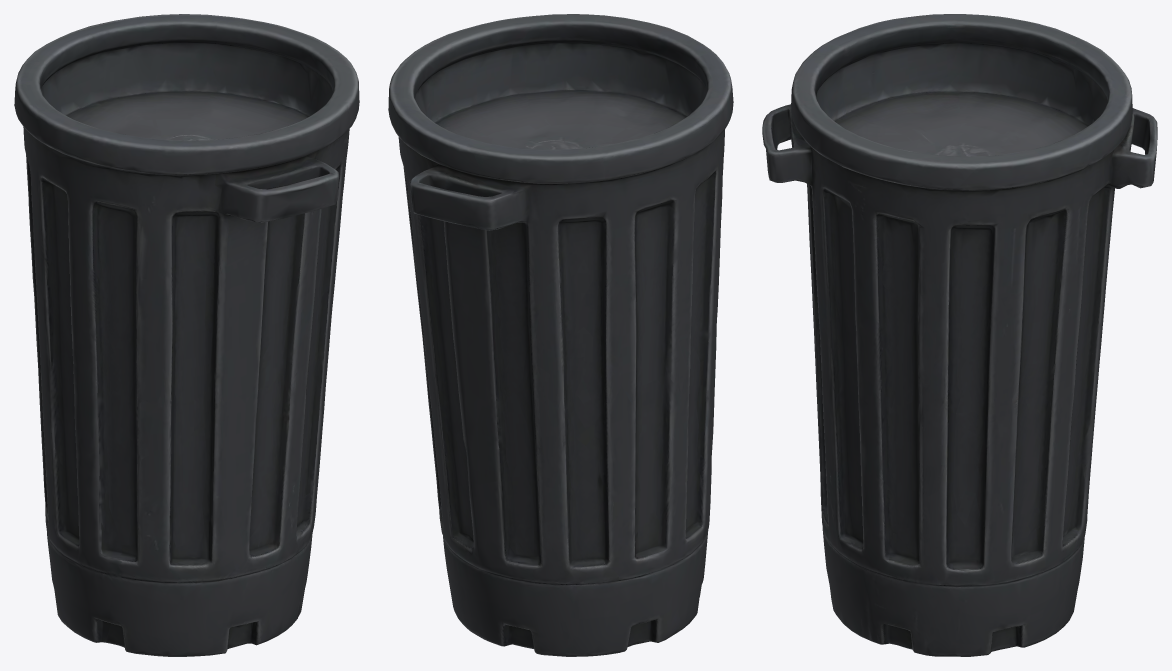
Rendered from tacho.glb.
3 renders of one model, left to right at view 1: azimuth 30°, elevation 25°; view 2: azimuth 150°, elevation 25°; view 3: azimuth 270°, elevation 25°, orthographic.
Parts seen in each view (by area): view 1: tripo_node_4f613ad3-0b32-46aa-a4c3-5a7364633d07; view 2: tripo_node_4f613ad3-0b32-46aa-a4c3-5a7364633d07; view 3: tripo_node_4f613ad3-0b32-46aa-a4c3-5a7364633d07.
Boxes of the visible parts, x1,y1,x2,y2 form: tripo_node_4f613ad3-0b32-46aa-a4c3-5a7364633d07: (14, 14, 359, 656); tripo_node_4f613ad3-0b32-46aa-a4c3-5a7364633d07: (388, 14, 733, 656); tripo_node_4f613ad3-0b32-46aa-a4c3-5a7364633d07: (762, 14, 1157, 656).
Size of the model in its own units: 0.5949 by 1 by 0.6766.
Materials: 1 (1 with a texture image).
